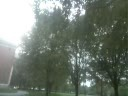window: (18, 8, 128, 96)
